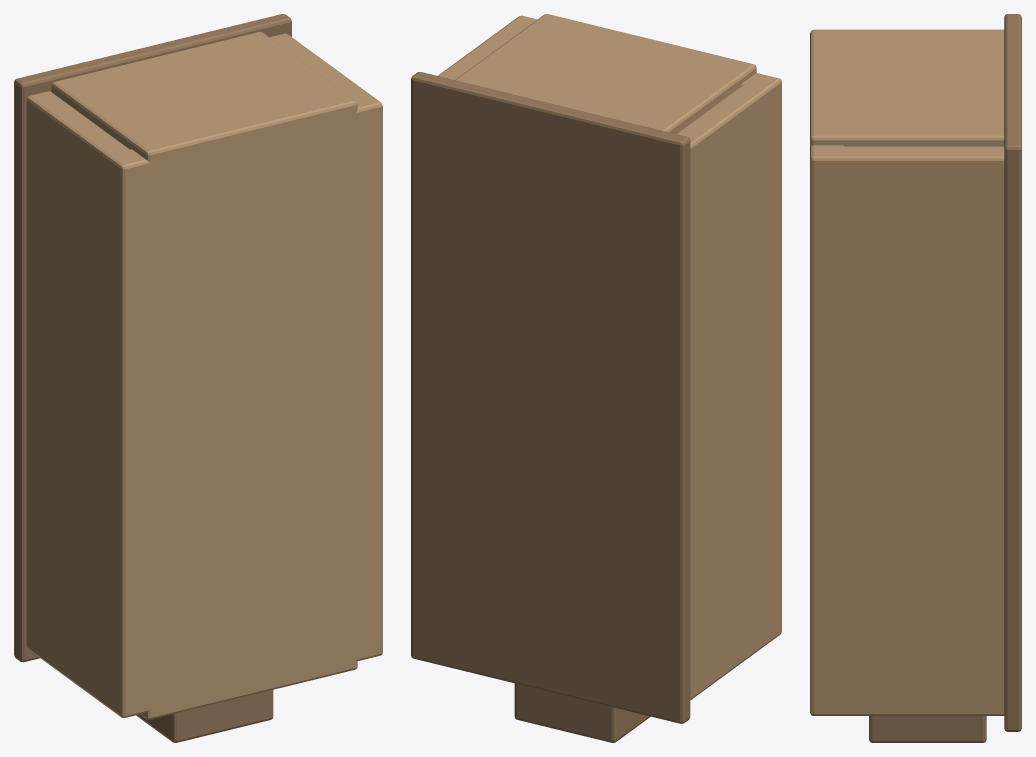
Rendered from boat_held.gltf.
The picture shows the model from 3 angles, left to right: view 1: azimuth 30°, elevation 25°; view 2: azimuth 150°, elevation 25°; view 3: azimuth 270°, elevation 25°; orthographic projection.
Parts seen in each view (by area): view 1: boats_boat_held; view 2: boats_boat_held; view 3: boats_boat_held.
Boxes of the visible parts, bbox=[...] form: boats_boat_held: bbox=[14, 14, 382, 742]; boats_boat_held: bbox=[411, 14, 781, 742]; boats_boat_held: bbox=[810, 14, 1021, 742].
Size of the model in its own units: 0.108 by 0.24 by 0.072.
